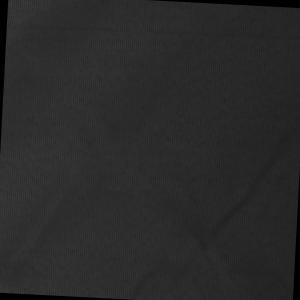Wrinkle: (123, 110, 300, 300), (1, 163, 94, 298)
